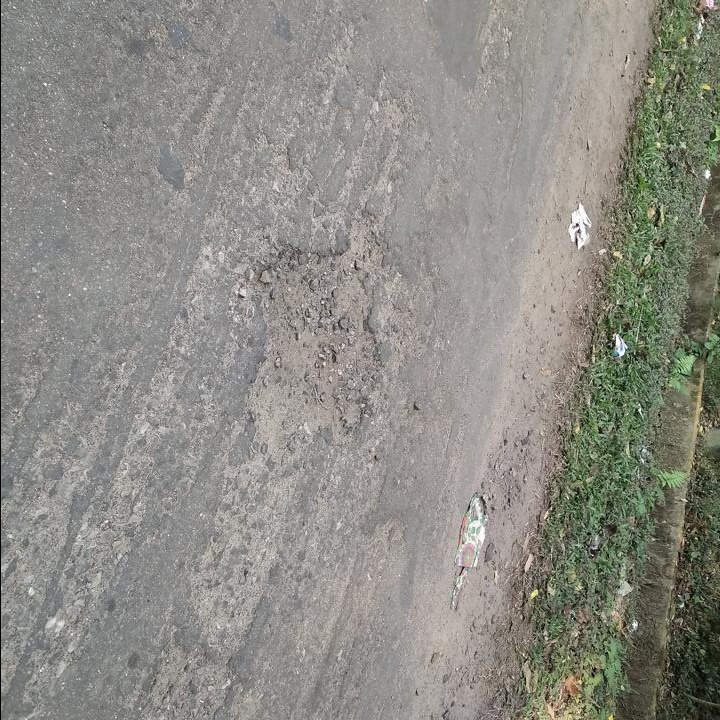pothole: (245, 208, 389, 456)
